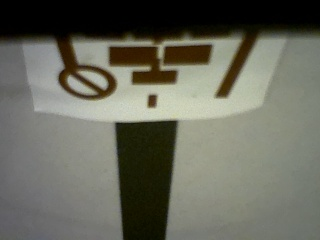Clearing_Zone: (52, 34, 258, 109)
